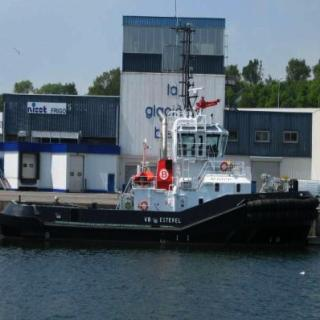Tug Boat: (16, 22, 320, 245)
